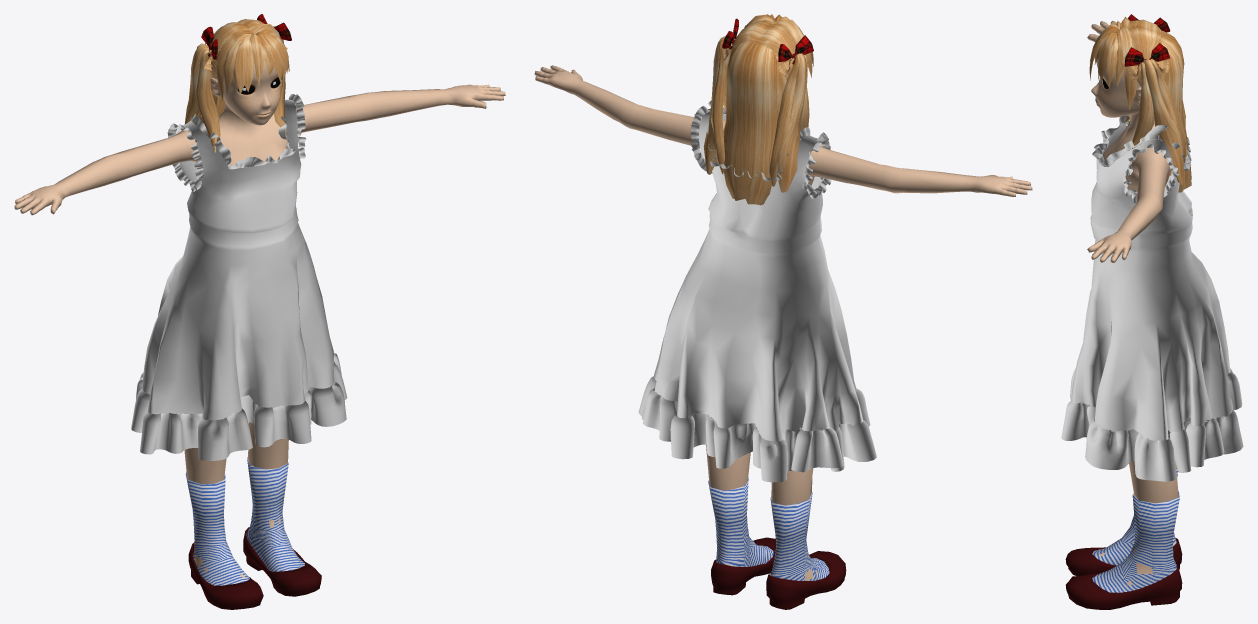
The model's file is girl_fbx.fbx.
3 views of the same model, side by side, from view 1: azimuth 30°, elevation 25°; view 2: azimuth 150°, elevation 25°; view 3: azimuth 270°, elevation 25° (orthographic).
Visible parts, largest first — view 1: Dress, Body, Socks, Fronthair, Shoes, Twintails, Tophair; view 2: Dress, Body, Backhair, Socks, Twintails, Shoes, Tophair; view 3: Dress, Body, Socks, Shoes, Twintails, Fronthair, Backhair, Tophair, Left_Bow.
Part boxes in pixels (x1,y1,x2,y2): Dress: [131, 94, 347, 460]; Body: [14, 57, 505, 577]; Socks: [185, 457, 304, 585]; Fronthair: [216, 24, 289, 101]; Shoes: [188, 527, 321, 609]; Twintails: [185, 26, 287, 152]; Tophair: [208, 19, 264, 77]; Dress: [638, 100, 876, 482]; Body: [534, 65, 1032, 580]; Backhair: [723, 42, 786, 205]; Socks: [708, 476, 829, 580]; Twintails: [703, 35, 810, 192]; Shoes: [711, 537, 846, 609]; Tophair: [730, 20, 797, 80]; Dress: [1061, 115, 1243, 481]; Body: [1087, 21, 1178, 585]; Socks: [1092, 468, 1179, 592]; Shoes: [1065, 538, 1182, 609]; Twintails: [1124, 59, 1185, 184]; Fronthair: [1089, 17, 1136, 110]; Backhair: [1161, 30, 1191, 192]; Tophair: [1128, 19, 1163, 86]; Left_Bow: [1124, 43, 1169, 66].
Size of the model in its own units: 1.38 by 1.51 by 0.4433.
